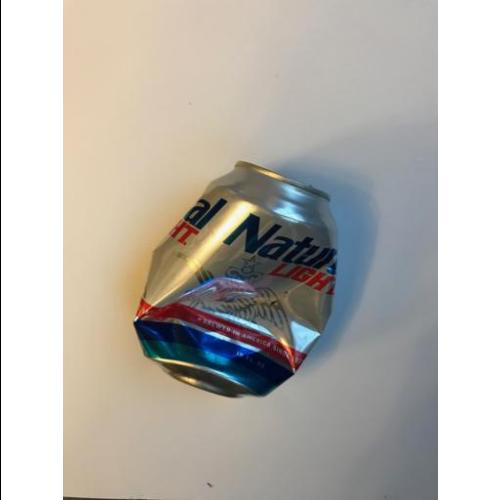metal: (134, 161, 350, 403)
